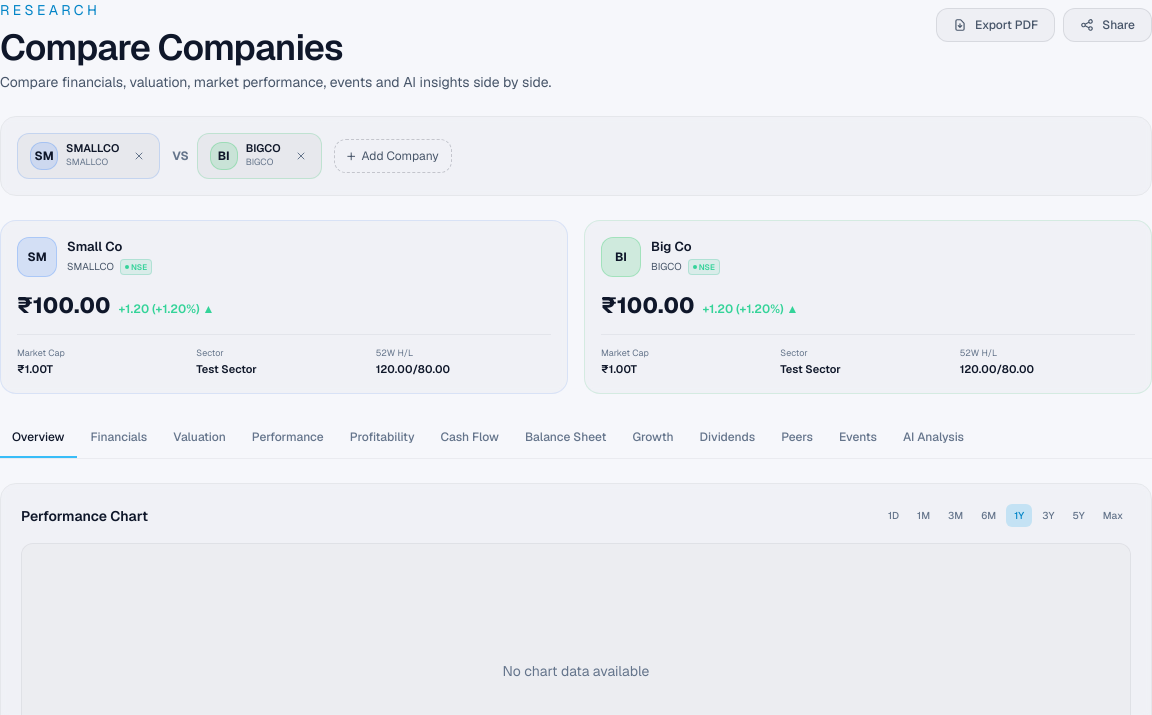
Test case: CompareContent — ranking-alignment guard (2026-09-27) › never ranks Free Cash Flow even when currency AND magnitude unit genuinely match, because its reporting period is unconfirmed
The width and height of the screenshot is (1152, 715).
Expected: the text "Small Co" is shown, [67, 238, 122, 255]
Click the button "Balance Sheet". click: (566, 438)
box: [513, 418, 618, 458]
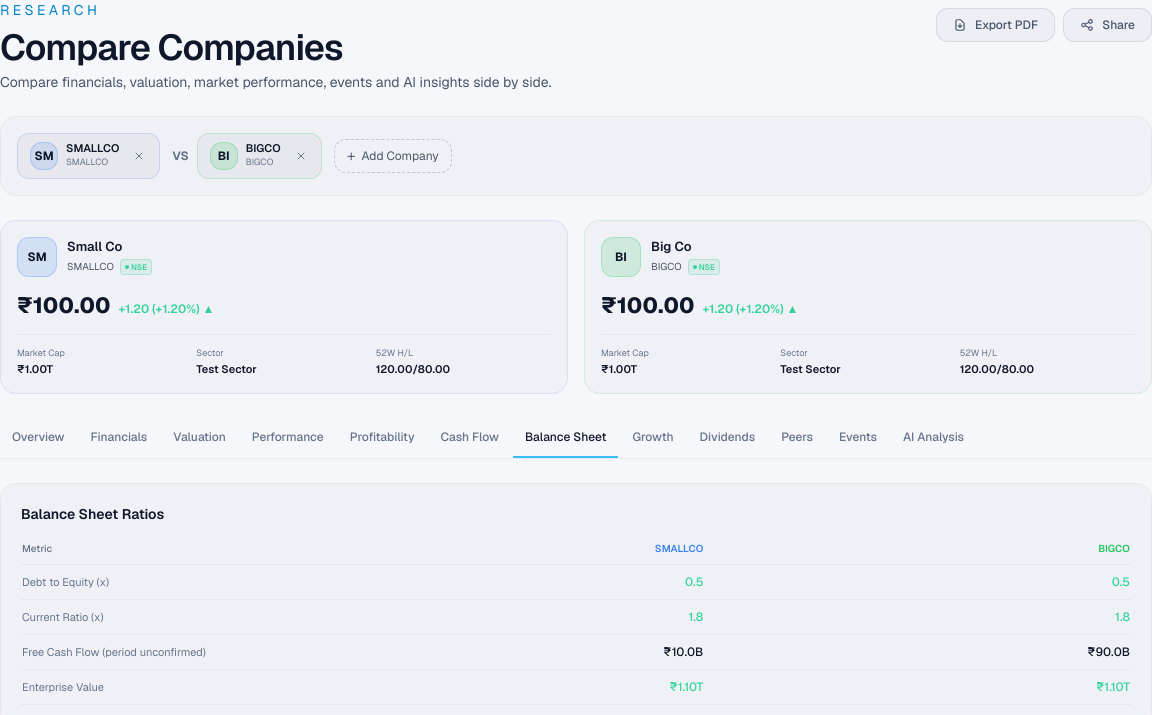
Expected: the text "Balance Sheet Ratios" is shown, [21, 504, 164, 524]
Expected: the text "₹10.0B" is shown, [222, 634, 704, 670]
Expected: the text "₹90.0B" is shown, [704, 634, 1131, 670]
